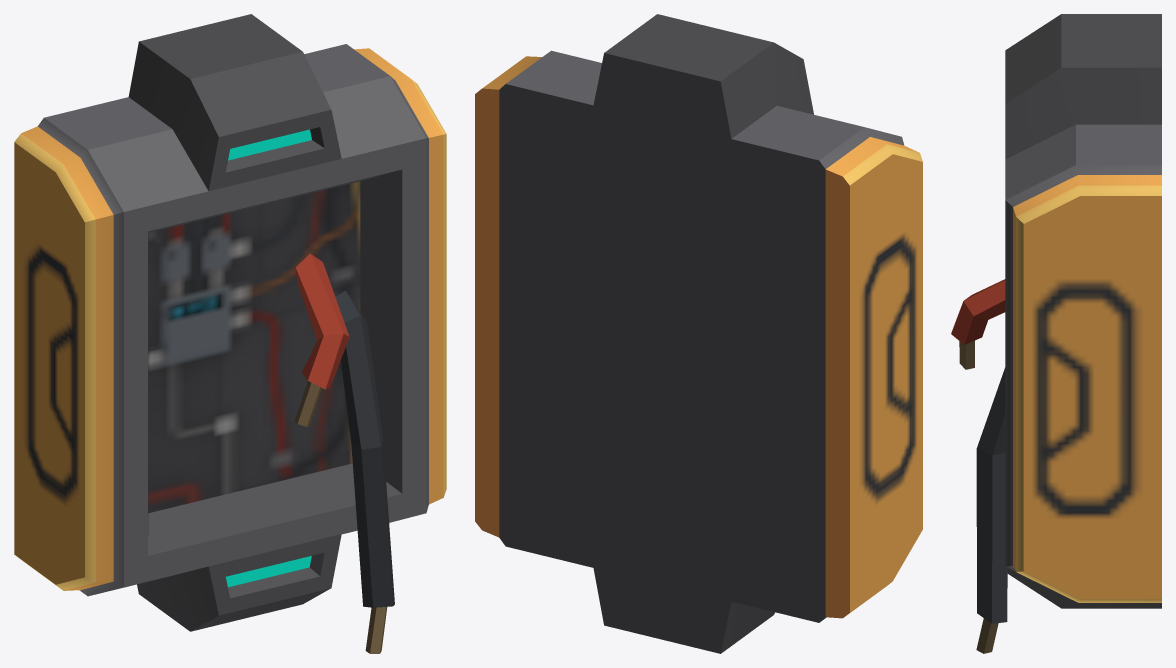
The model's file is SM_Prop_Greebles_18.fbx.
3 renders of one model, left to right at view 1: azimuth 30°, elevation 25°; view 2: azimuth 150°, elevation 25°; view 3: azimuth 270°, elevation 25°, orthographic. The views are drawn at different scales.
Visible parts, largest first — view 1: SM_Prop_Greebles_18; view 2: SM_Prop_Greebles_18; view 3: SM_Prop_Greebles_18.
Part boxes in pixels (bbox=[...]): SM_Prop_Greebles_18: bbox=[14, 14, 446, 653]; SM_Prop_Greebles_18: bbox=[475, 14, 922, 653]; SM_Prop_Greebles_18: bbox=[951, 14, 1161, 653].
Size of the model in its own units: 59.92 by 91.81 by 30.92.
